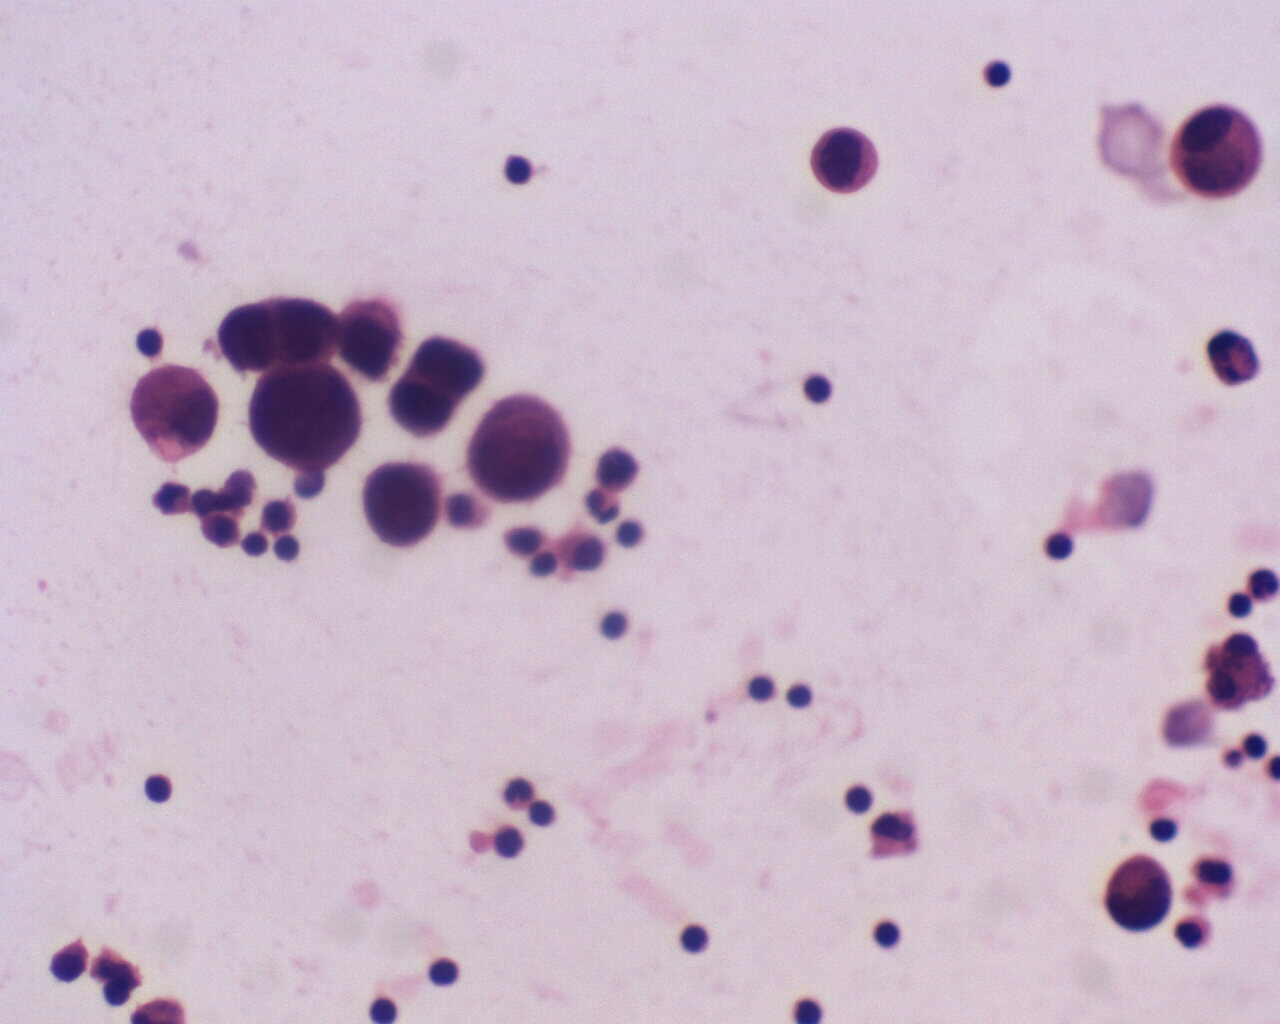ab: (247, 366, 365, 473), (465, 391, 569, 503), (1171, 97, 1269, 212), (385, 328, 483, 438), (360, 456, 439, 553), (333, 292, 411, 381), (1098, 853, 1176, 934), (806, 122, 881, 205), (267, 287, 340, 367)
lymph: (425, 950, 467, 995), (1040, 528, 1081, 567), (141, 770, 180, 812), (678, 918, 714, 963), (796, 365, 836, 404), (837, 781, 880, 817), (495, 150, 536, 188), (984, 55, 1020, 91), (783, 680, 817, 716), (239, 530, 272, 564), (871, 920, 903, 955)
meso: (117, 363, 228, 466)
neutro: (578, 487, 629, 522), (501, 775, 537, 812)
